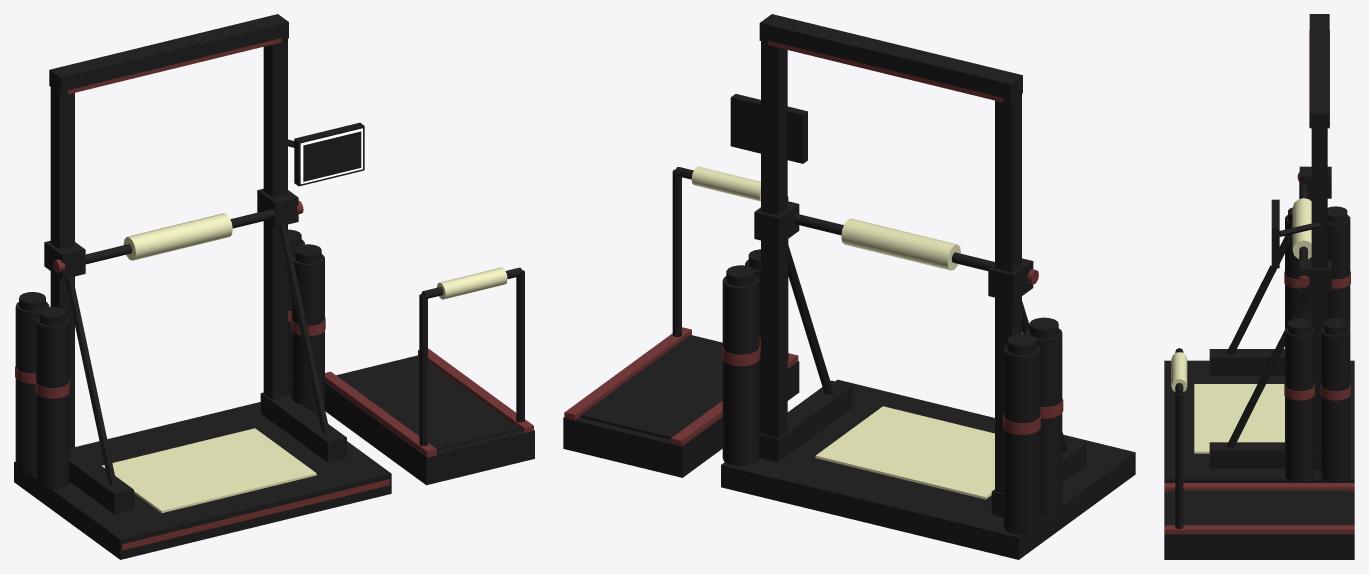
File: vigil-exerciser.glb
3 renders of one model, left to right at view 1: azimuth 30°, elevation 25°; view 2: azimuth 150°, elevation 25°; view 3: azimuth 270°, elevation 25°, orthographic. The views are drawn at different scales.
Parts seen in each view (by area): view 1: Rig_Platform, Rig_Frame, Rig_Treadmill, Rig_Cylinders_L, Rig_Bar, Rig_Cylinders_R, Rig_Display; view 2: Rig_Platform, Rig_Frame, Rig_Treadmill, Rig_Cylinders_L, Rig_Cylinders_R, Rig_Bar, Rig_Display; view 3: Rig_Treadmill, Rig_Frame, Rig_Platform, Rig_Cylinders_R, Rig_Cylinders_L, Rig_Bar, Rig_Display.
Boxes of the visible parts, x1=… form: Rig_Platform: x1=14, y1=402, x2=391, y2=559; Rig_Frame: x1=49, y1=14, x2=346, y2=514; Rig_Treadmill: x1=325, y1=267, x2=534, y2=485; Rig_Cylinders_L: x1=15, y1=292, x2=69, y2=489; Rig_Bar: x1=44, y1=188, x2=303, y2=279; Rig_Cylinders_R: x1=288, y1=229, x2=325, y2=415; Rig_Display: x1=288, y1=122, x2=364, y2=186; Rig_Platform: x1=721, y1=379, x2=1135, y2=559; Rig_Frame: x1=759, y1=14, x2=1086, y2=517; Rig_Treadmill: x1=563, y1=166, x2=799, y2=477; Rig_Cylinders_L: x1=1003, y1=317, x2=1063, y2=534; Rig_Cylinders_R: x1=722, y1=249, x2=760, y2=466; Rig_Bar: x1=754, y1=201, x2=1038, y2=301; Rig_Display: x1=730, y1=94, x2=807, y2=163; Rig_Treadmill: x1=1164, y1=348, x2=1354, y2=559; Rig_Frame: x1=1209, y1=14, x2=1329, y2=469; Rig_Platform: x1=1164, y1=360, x2=1354, y2=482; Rig_Cylinders_R: x1=1284, y1=318, x2=1350, y2=481; Rig_Cylinders_L: x1=1284, y1=206, x2=1350, y2=328; Rig_Bar: x1=1292, y1=166, x2=1331, y2=291; Rig_Display: x1=1270, y1=199, x2=1320, y2=268.
Size of the model in its own units: 2.18 by 2.06 by 0.951.
